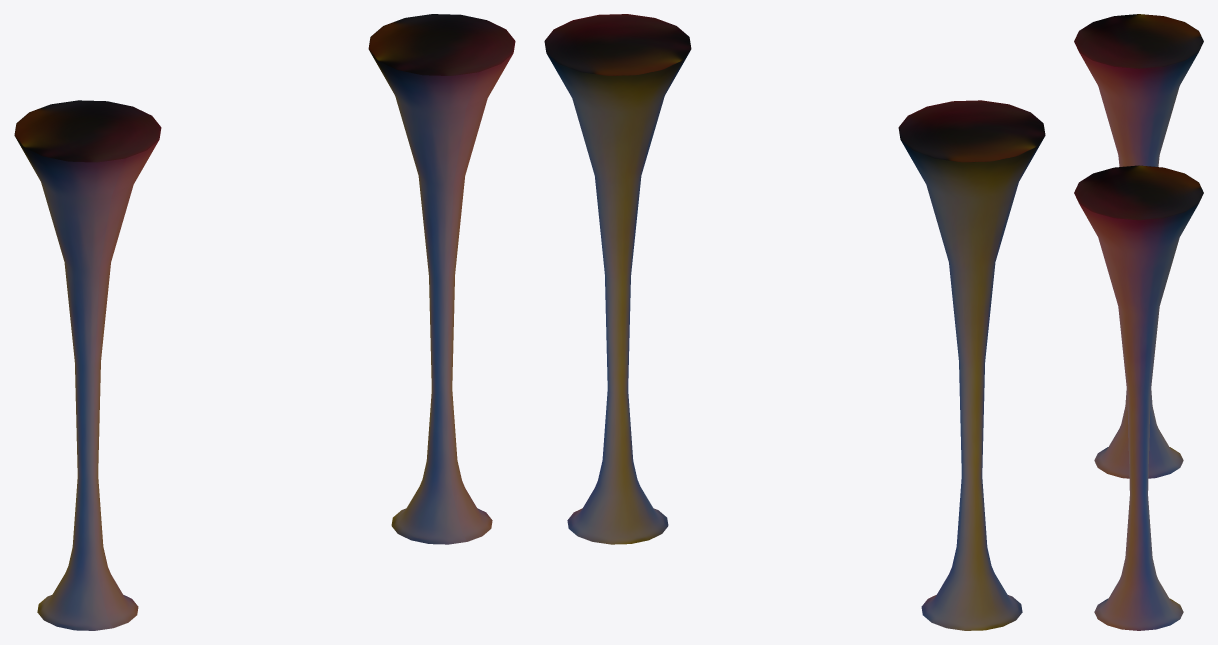
File: tiang bake.fbx
The picture shows the model from 3 angles, left to right: view 1: azimuth 30°, elevation 25°; view 2: azimuth 150°, elevation 25°; view 3: azimuth 270°, elevation 25°; orthographic projection. The views are drawn at different scales.
Visible parts, largest first — view 1: Cylinder_48, Cylinder_48_1; view 2: Cylinder_48, Cylinder_48_1; view 3: Cylinder_48, Cylinder_48_1.
Boxes of the visible parts, x1=… form: Cylinder_48: x1=368, y1=14, x2=515, y2=544; Cylinder_48_1: x1=14, y1=100, x2=161, y2=630; Cylinder_48: x1=544, y1=14, x2=691, y2=544; Cylinder_48_1: x1=898, y1=100, x2=1045, y2=630; Cylinder_48: x1=1074, y1=165, x2=1203, y2=630; Cylinder_48_1: x1=1074, y1=14, x2=1203, y2=478.
Bounding box in the file's own units: 726 × 688 × 193.
